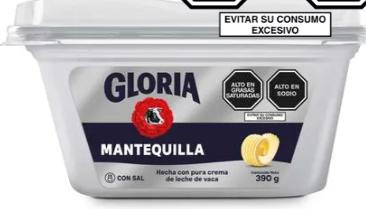brand: (103, 67, 203, 106)
net_weight: (250, 174, 284, 184)
product_name: (94, 140, 214, 160)
